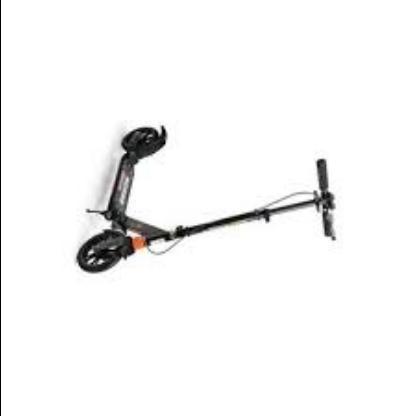bike: (75, 125, 338, 274)
